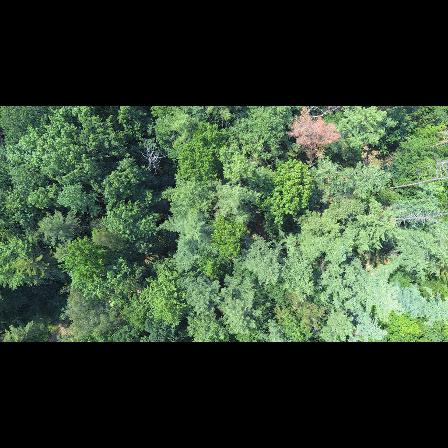Dead: (384, 165, 448, 192), (385, 203, 448, 228)
